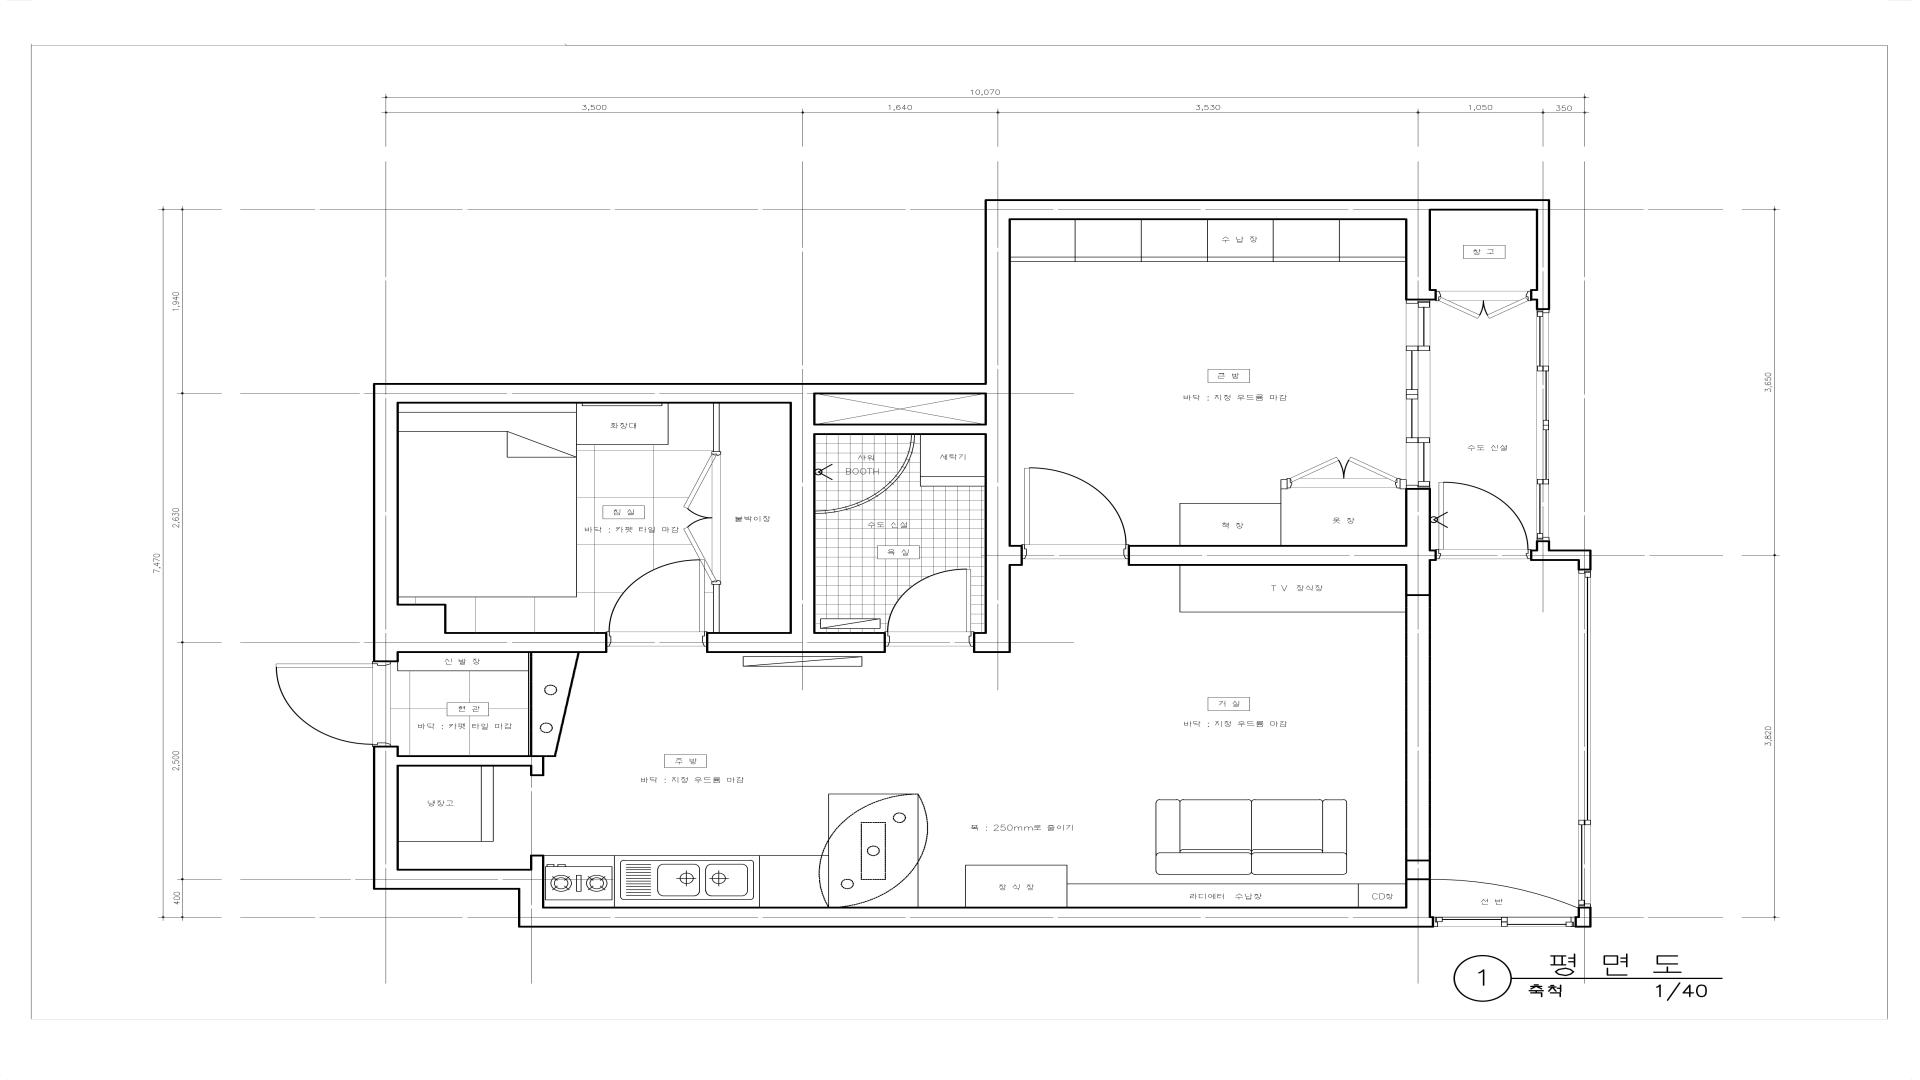door: (1022, 467, 1127, 559), (276, 662, 390, 746), (608, 559, 705, 646), (1436, 481, 1530, 559), (886, 568, 973, 646), (1436, 291, 1530, 320)
wall: (518, 906, 1433, 927), (1404, 566, 1431, 906), (1011, 199, 1431, 220), (400, 384, 815, 404), (373, 384, 400, 662), (985, 394, 1011, 653), (373, 869, 545, 907), (790, 404, 816, 632), (1127, 545, 1404, 566), (985, 199, 1011, 382), (705, 632, 886, 653), (446, 632, 608, 653), (373, 746, 400, 869), (1404, 488, 1437, 566), (398, 604, 447, 653), (815, 382, 1011, 394), (815, 423, 985, 435), (1404, 220, 1431, 289), (398, 756, 530, 767), (1536, 211, 1551, 310), (1431, 199, 1551, 211), (1549, 550, 1592, 560), (1404, 289, 1437, 301), (1575, 907, 1592, 928), (713, 404, 720, 452), (713, 584, 720, 632), (530, 756, 545, 777), (1536, 541, 1549, 562), (1010, 545, 1022, 566), (973, 632, 985, 653), (530, 855, 545, 869), (1577, 560, 1592, 571), (1530, 550, 1536, 562), (1530, 289, 1536, 301)
window: (1406, 301, 1431, 488), (1578, 570, 1590, 907), (1536, 310, 1549, 541), (1433, 916, 1575, 927)
